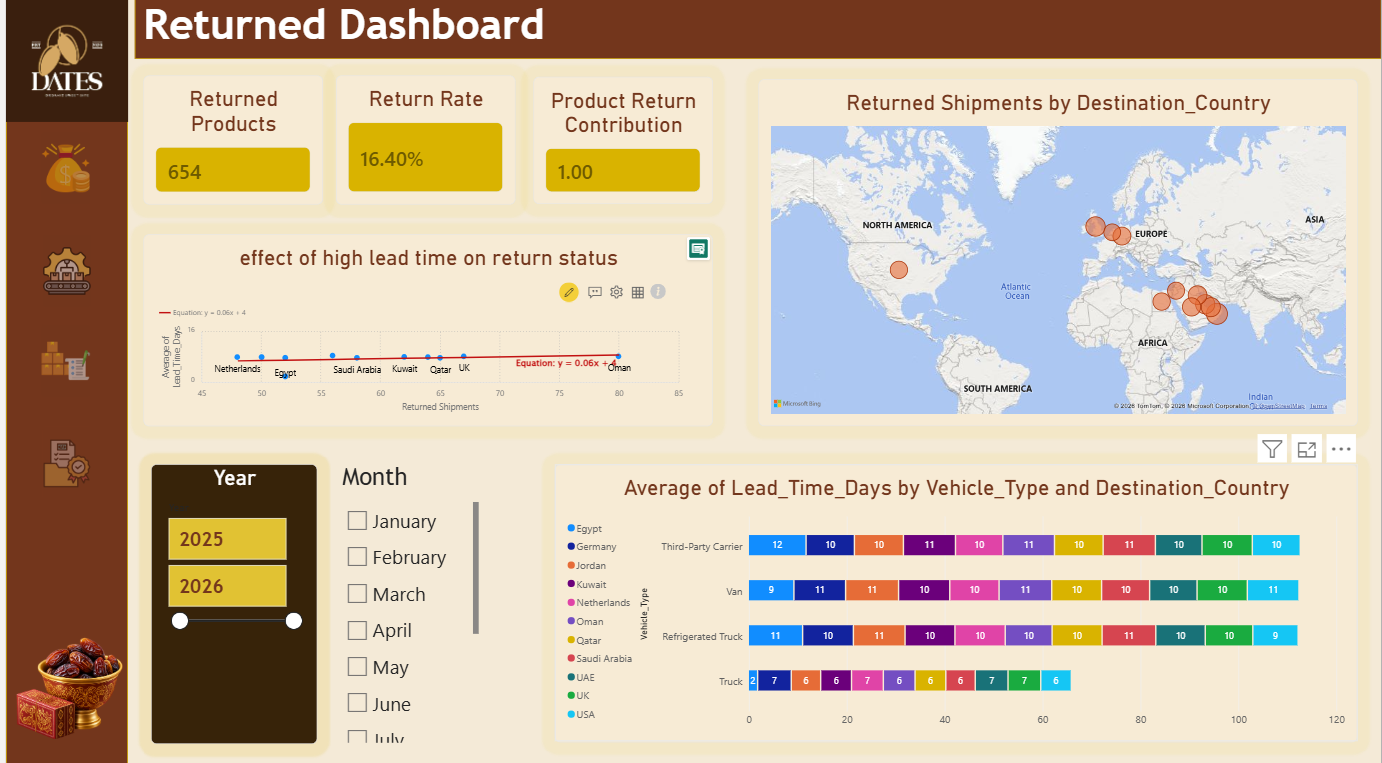

The dashboard page shown, as its layout file describes it:
{"tool":"powerbi","page":{"name":"Returned ","canvas":[1920,1080],"ordinal":5},"visuals":[{"type":"shape","box":[0,0,170,1081],"z":0},{"type":"image","box":[0,1.7,170,171.7],"z":1000},{"type":"actionButton","box":[49,186.4,69,102],"z":2000},{"type":"actionButton","box":[50.7,329.4,69,102],"z":3000},{"type":"actionButton","box":[50.7,598,69,102],"z":4000},{"type":"actionButton","box":[49,455,69,102],"z":5000},{"type":"image","box":[11.5,842.4,150,235.7],"z":6000},{"type":"shape","box":[179,0,1741,85],"z":7000},{"type":"textbox","title":"Returned Dashboard","box":[192.7,1.7,741.7,116.7],"z":8000},{"type":"cardVisual","title":"Returned Products","fields":{"Data":["MyMeasures.ReturnProductCount"]},"box":[192,108,250,180],"z":9000},{"type":"cardVisual","title":"Return Rate","fields":{"Data":["MyMeasures.Return_rate"]},"box":[460,108,250,180],"z":10000},{"type":"cardVisual","title":"Product Return Contribution","fields":{"Data":["MyMeasures.Product Return Contribution"]},"box":[736,110,250,177.9],"z":11000},{"type":"map","fields":{"Category":["shipDim.Destination_Country"],"Size":["MyMeasures.Returned Shipments"]},"box":[1050,114,836,484],"z":12000},{"type":"performanceBubbleChartFBAAA829CB604E5CAB4F21729F233294","title":"effect of high lead time on return status","fields":{"category":["shipDim.Destination_Country"],"xmeasure":["MyMeasures.Returned Shipments"],"ymeasure":["Avg(FactTransaction.Lead_Time_Days)"]},"box":[192,330,794,268],"z":13000},{"type":"barChart","fields":{"Category":["shipDim.Vehicle_Type"],"Series":["shipDim.Destination_Country"],"Y":["Avg(FactTransaction.Lead_Time_Days)"]},"box":[766,650,1120,388],"z":14000},{"type":"slicer","title":"Year","fields":{"Values":["DateDim.Date.Variation.Date Hierarchy.Year"]},"box":[202,650,232,390],"z":15000},{"type":"slicer","title":"Month","fields":{"Values":["DateDim.Date.Variation.Date Hierarchy.Month"]},"box":[470,648,190,390],"z":16000}]}

Visuals, with their boxes on the page's 1920x1080 design canvas (x1, y1, x2, y2). These are canvas units, not pixel positions in the 1382x763 screenshot, which may show the page scaled, cropped or inside an application window:
shape: (x1=0, y1=0, x2=170, y2=1081)
image: (x1=0, y1=2, x2=170, y2=173)
actionButton: (x1=49, y1=186, x2=118, y2=288)
actionButton: (x1=51, y1=329, x2=120, y2=431)
actionButton: (x1=51, y1=598, x2=120, y2=700)
actionButton: (x1=49, y1=455, x2=118, y2=557)
image: (x1=12, y1=842, x2=162, y2=1078)
shape: (x1=179, y1=0, x2=1920, y2=85)
"Returned Dashboard" textbox: (x1=193, y1=2, x2=934, y2=118)
"Returned Products" cardVisual: (x1=192, y1=108, x2=442, y2=288)
"Return Rate" cardVisual: (x1=460, y1=108, x2=710, y2=288)
"Product Return Contribution" cardVisual: (x1=736, y1=110, x2=986, y2=288)
map - shipDim.Destination_Country x MyMeasures.Returned Shipments: (x1=1050, y1=114, x2=1886, y2=598)
"effect of high lead time on return status" performanceBubbleChartFBAAA829CB604E5CAB4F21729F233294: (x1=192, y1=330, x2=986, y2=598)
barChart - shipDim.Vehicle_Type x shipDim.Destination_Country: (x1=766, y1=650, x2=1886, y2=1038)
"Year" slicer: (x1=202, y1=650, x2=434, y2=1040)
"Month" slicer: (x1=470, y1=648, x2=660, y2=1038)
